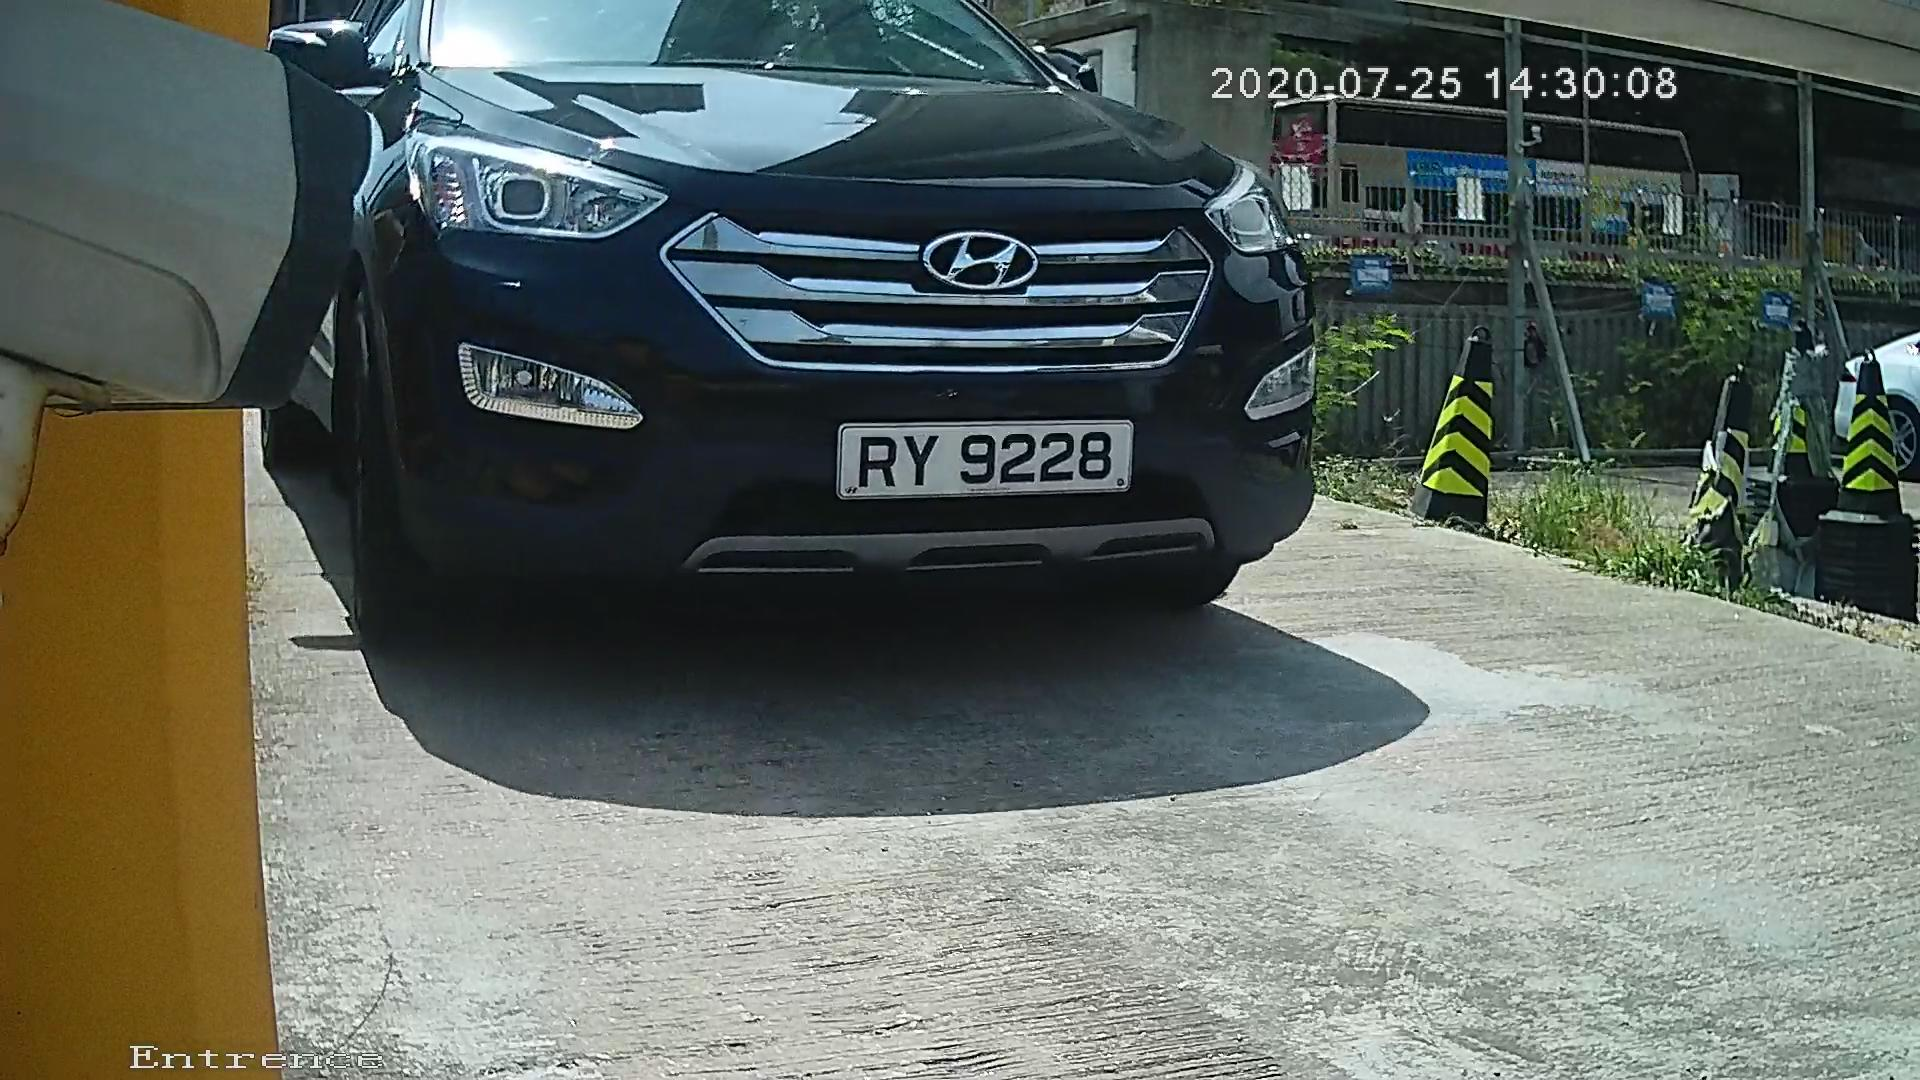Car: (103, 1, 1432, 704)
License Plate: (806, 410, 1140, 507)
